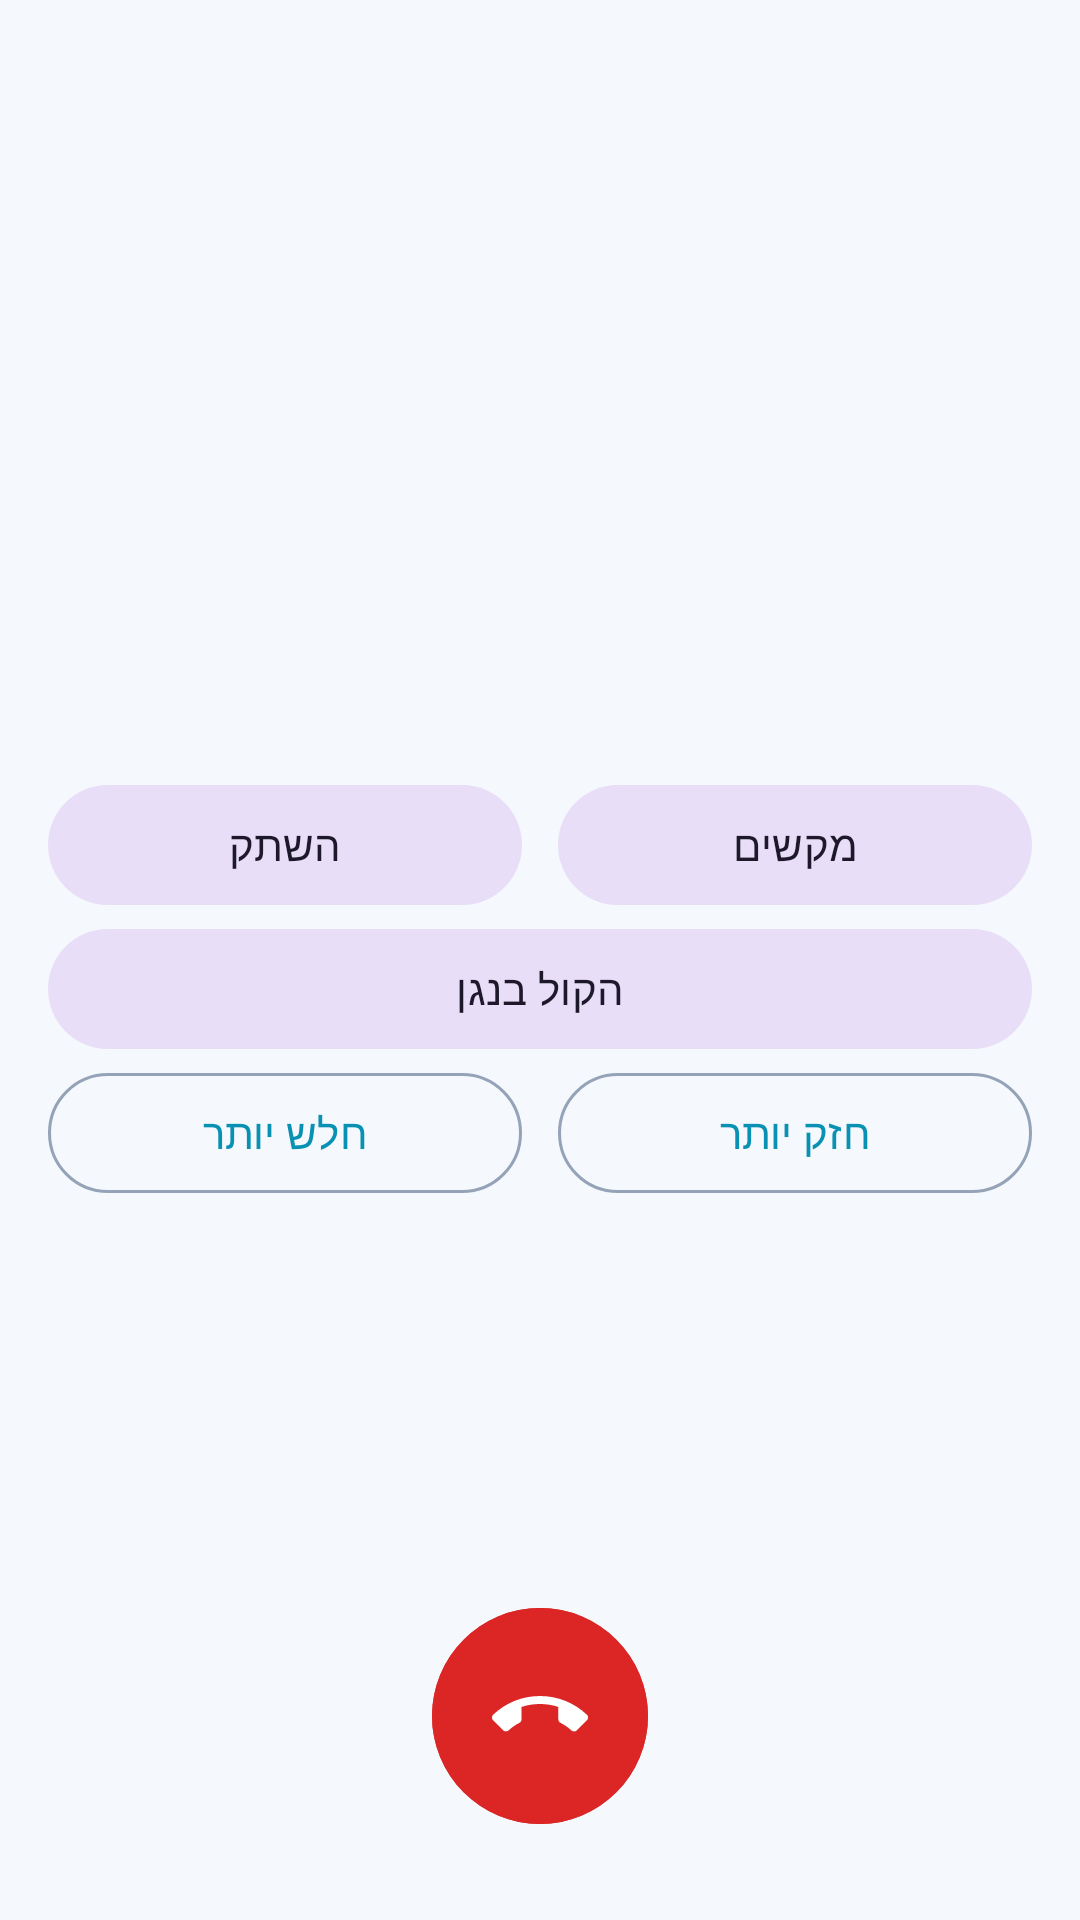

Where to tap for icons on this 1080×1920 app screen, as [x,y]:
נתק: [540,1716]
